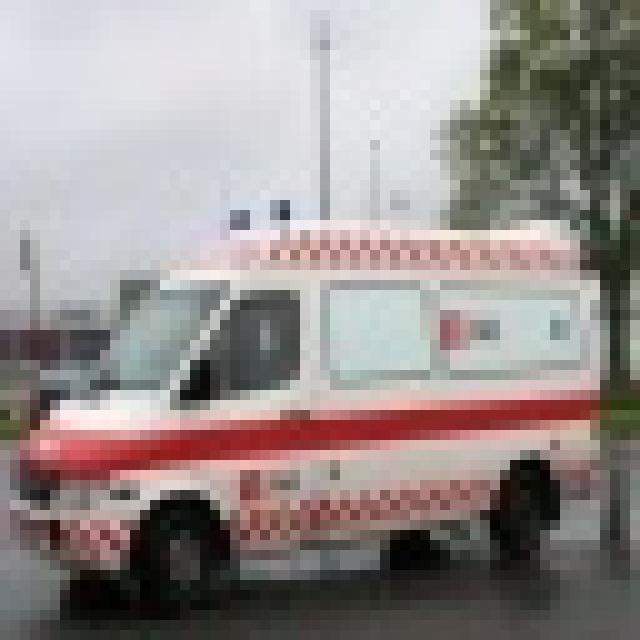Ambulance: (0, 200, 600, 610)
